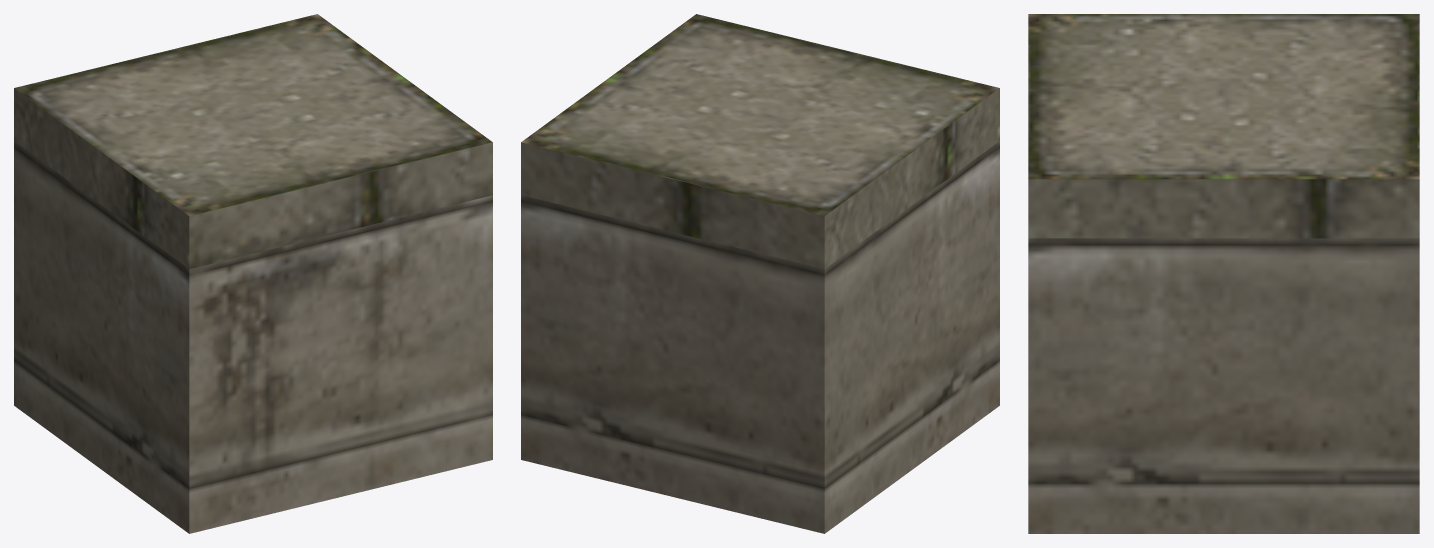
Rendered from MO_ELEVATED_FLOOR_01.fbx.
3 views of the same model, side by side, from view 1: azimuth 30°, elevation 25°; view 2: azimuth 150°, elevation 25°; view 3: azimuth 270°, elevation 25° (orthographic). The views are drawn at different scales.
Visible parts, largest first — view 1: MO_ELEVATED FLOOR_01; view 2: MO_ELEVATED FLOOR_01; view 3: MO_ELEVATED FLOOR_01.
Boxes of the visible parts, x1,y1,x2,y2 form: MO_ELEVATED FLOOR_01: (14, 14, 492, 533); MO_ELEVATED FLOOR_01: (521, 14, 999, 533); MO_ELEVATED FLOOR_01: (1028, 14, 1419, 533).
Bounding box in the file's own units: 2 × 2 × 2.
